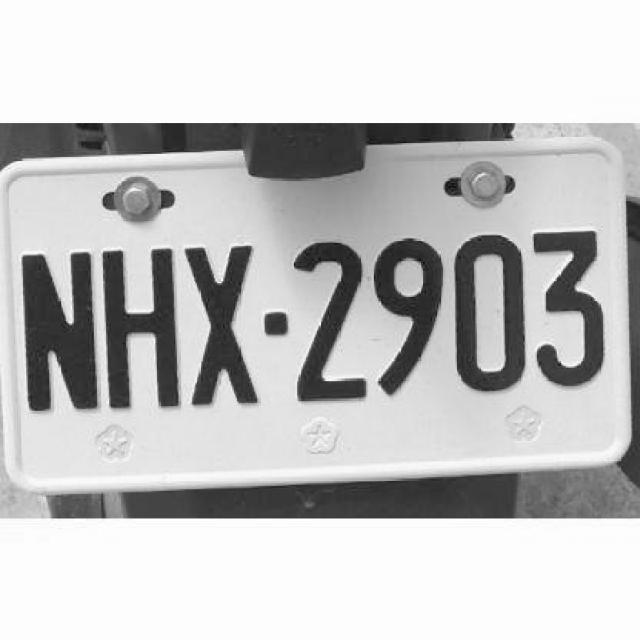-: (262, 307, 289, 338)
0: (449, 224, 529, 396)
2: (289, 229, 366, 405)
3: (528, 220, 606, 395)
9: (364, 229, 448, 402)
H: (98, 242, 182, 410)
N: (17, 241, 97, 414)
X: (185, 237, 257, 415)
